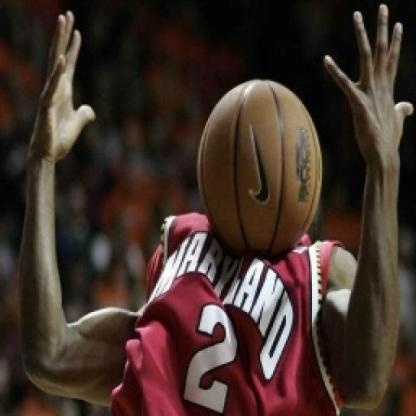basketball: (194, 76, 322, 260)
